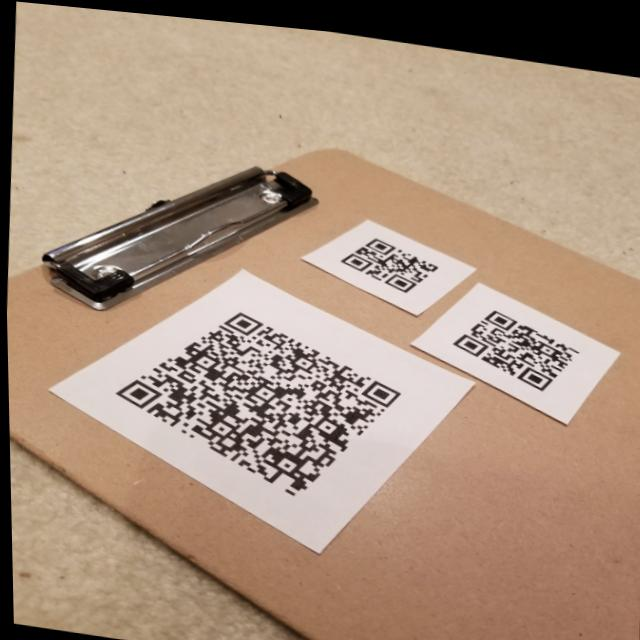QR_CODE: (98, 281, 421, 519), (444, 286, 591, 396), (324, 201, 451, 295)
